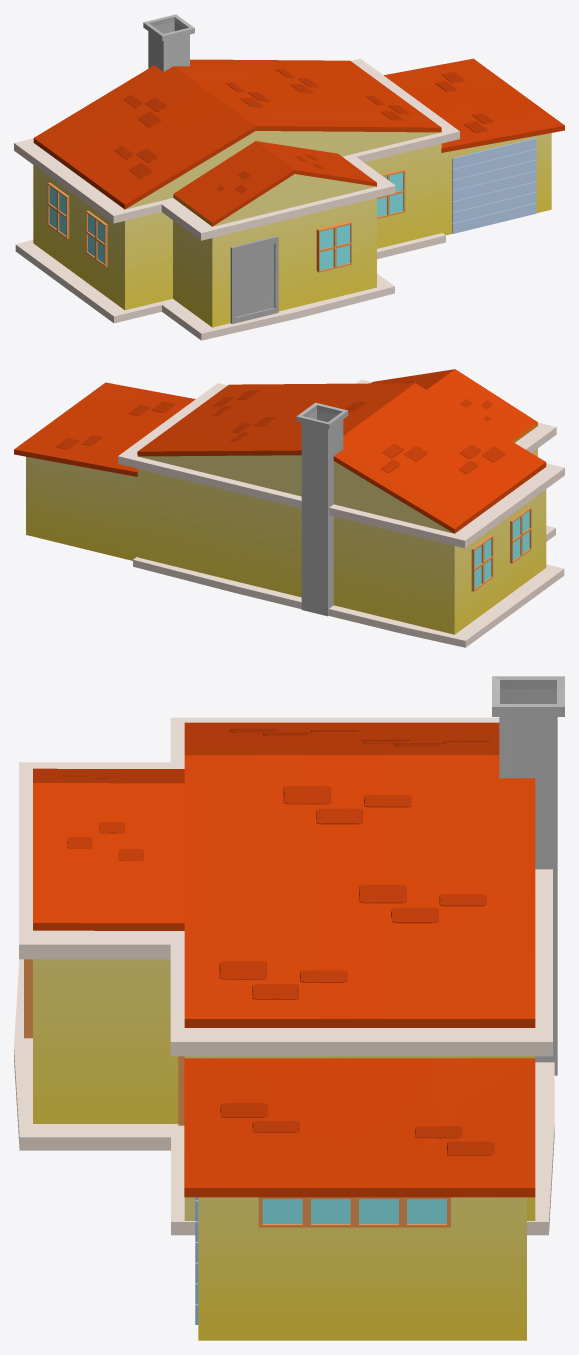
The picture shows the model from 3 angles, top to bottom: view 1: azimuth 30°, elevation 25°; view 2: azimuth 150°, elevation 25°; view 3: azimuth 270°, elevation 25°; orthographic projection. The views are drawn at different scales.
Visible parts, largest first — view 1: EV_2; view 2: EV_2; view 3: EV_2.
Part boxes in pixels (left/top/right/bottom): EV_2: left=14, top=14, right=564, bottom=340; EV_2: left=14, top=369, right=564, bottom=647; EV_2: left=14, top=676, right=564, bottom=1340.
Size of the model in its own units: 1147 by 467 by 627.
